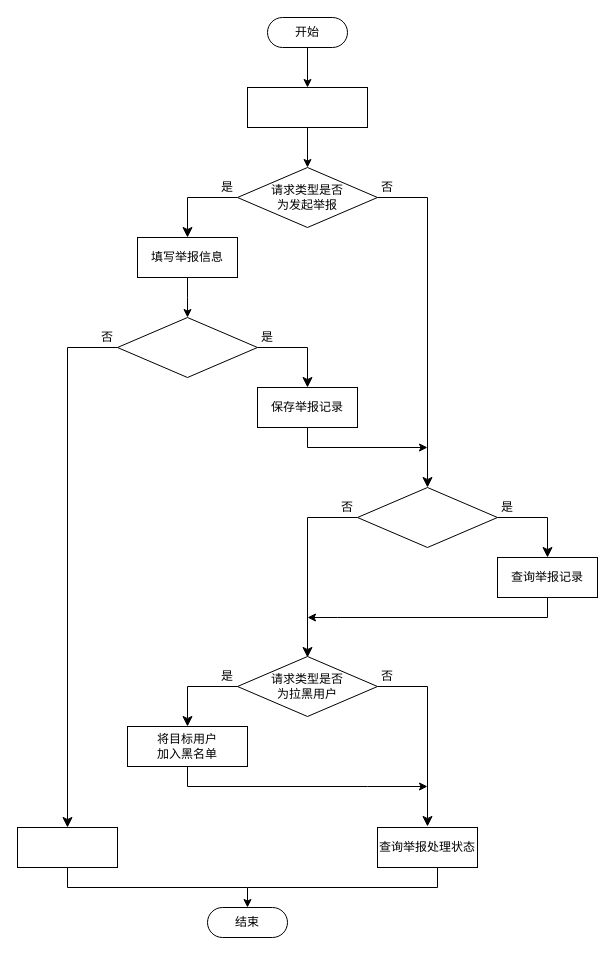
This 615x955 diagram has some shape labels left out. The shapes that lost their labels are listed below. From the top down, each one's box as (x1, y1, x2, y2) in pixels, then its label:
(246, 86, 368, 128): 用户发现异常对象 或违规内容
(116, 316, 258, 378): 举报参数是否 校验通过
(356, 486, 498, 548): 请求类型 是否 为查询举报记录
(16, 826, 118, 868): 返回参数错误提示
